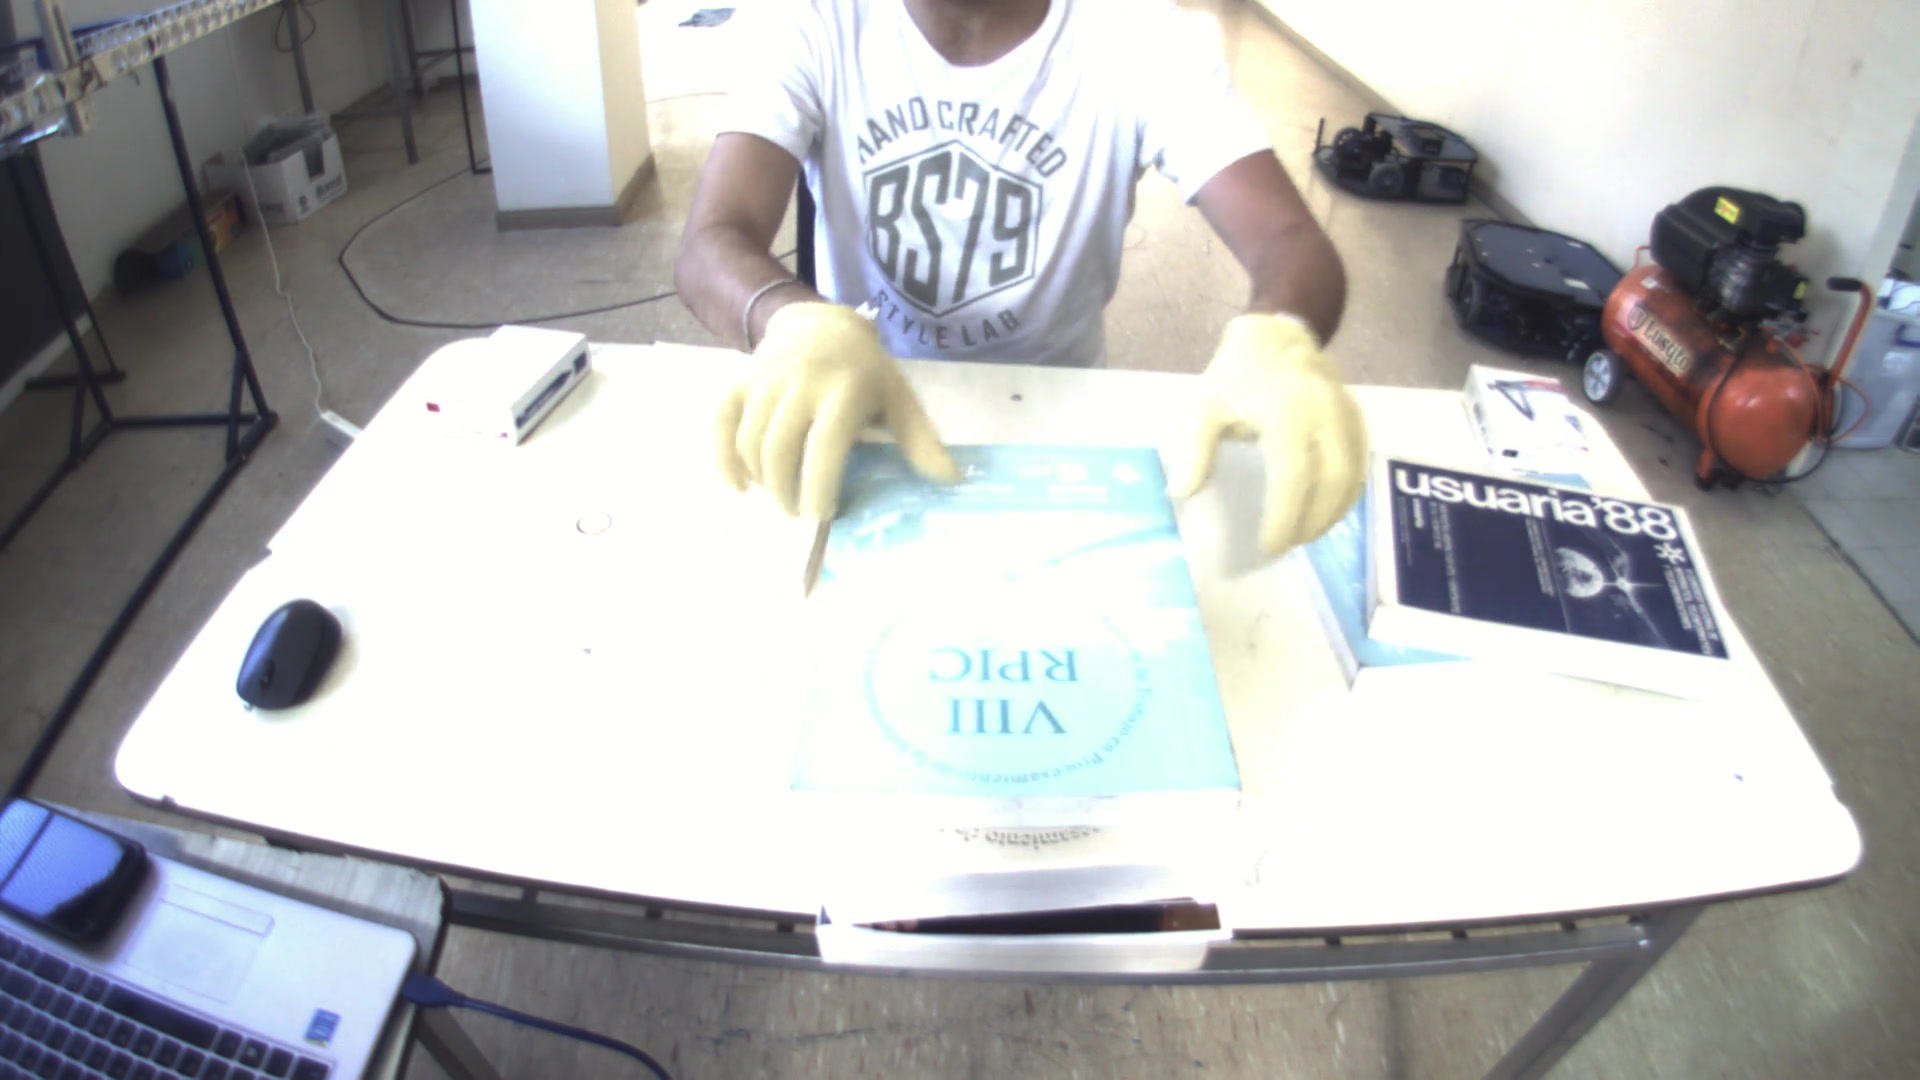hand: (698, 289, 968, 525), (1178, 302, 1395, 560)
